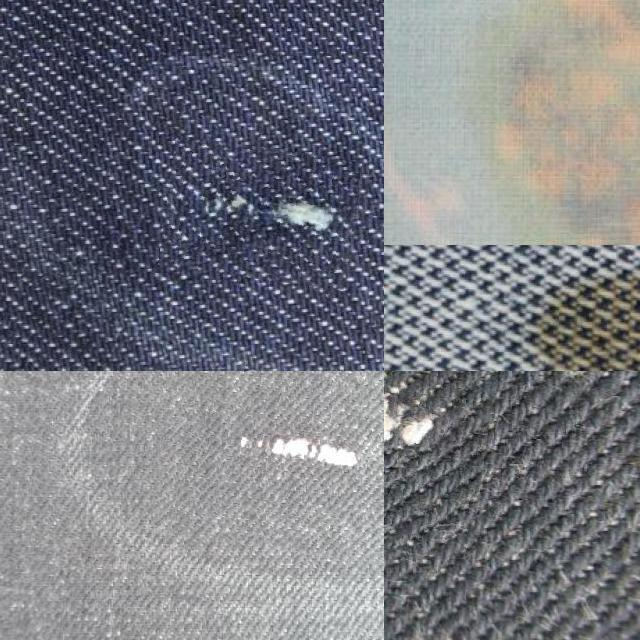Thread_other: (454, 0, 640, 245), (498, 245, 640, 371)
stains: (153, 371, 384, 560), (160, 142, 356, 285), (384, 371, 500, 550)
